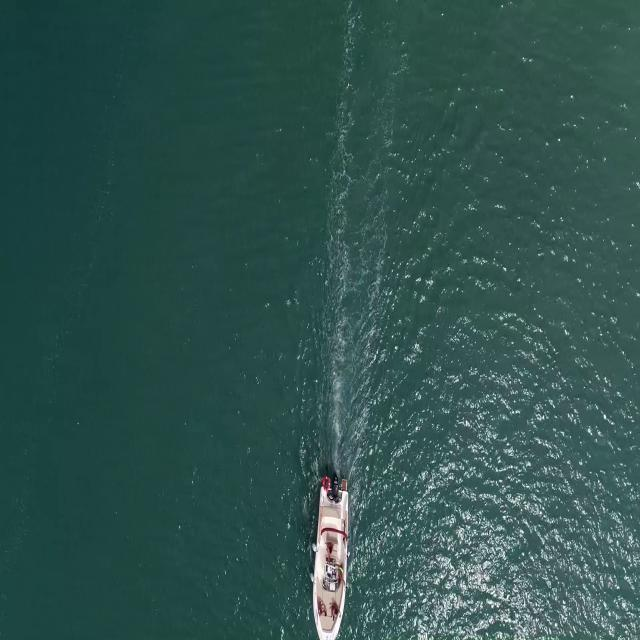boat: (312, 489, 353, 640)
life_buoy: (321, 476, 330, 489)
person: (315, 598, 328, 620), (336, 563, 347, 585), (325, 541, 335, 565), (331, 602, 341, 621)
